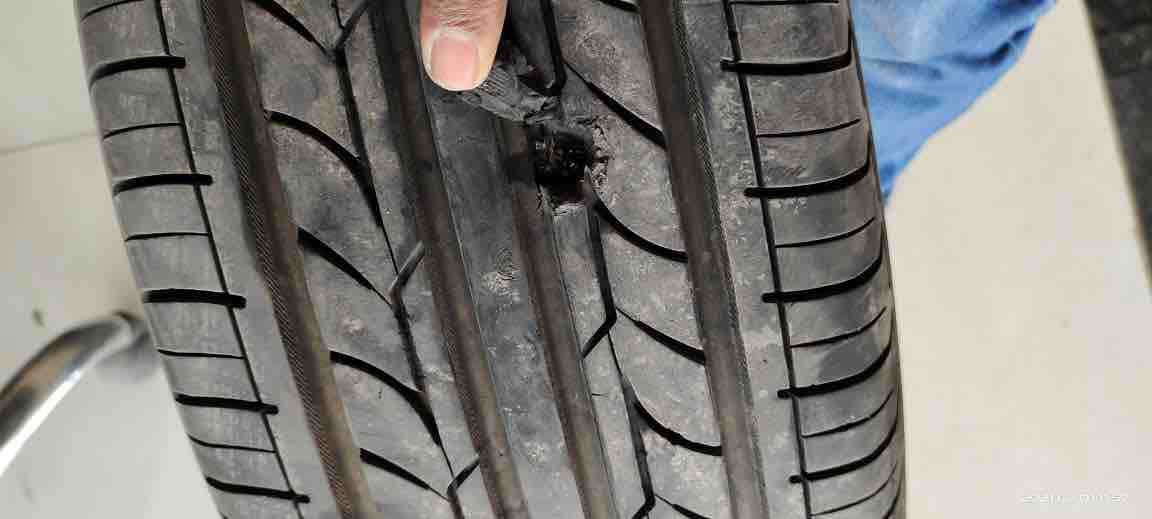tr: (492, 92, 618, 220)
